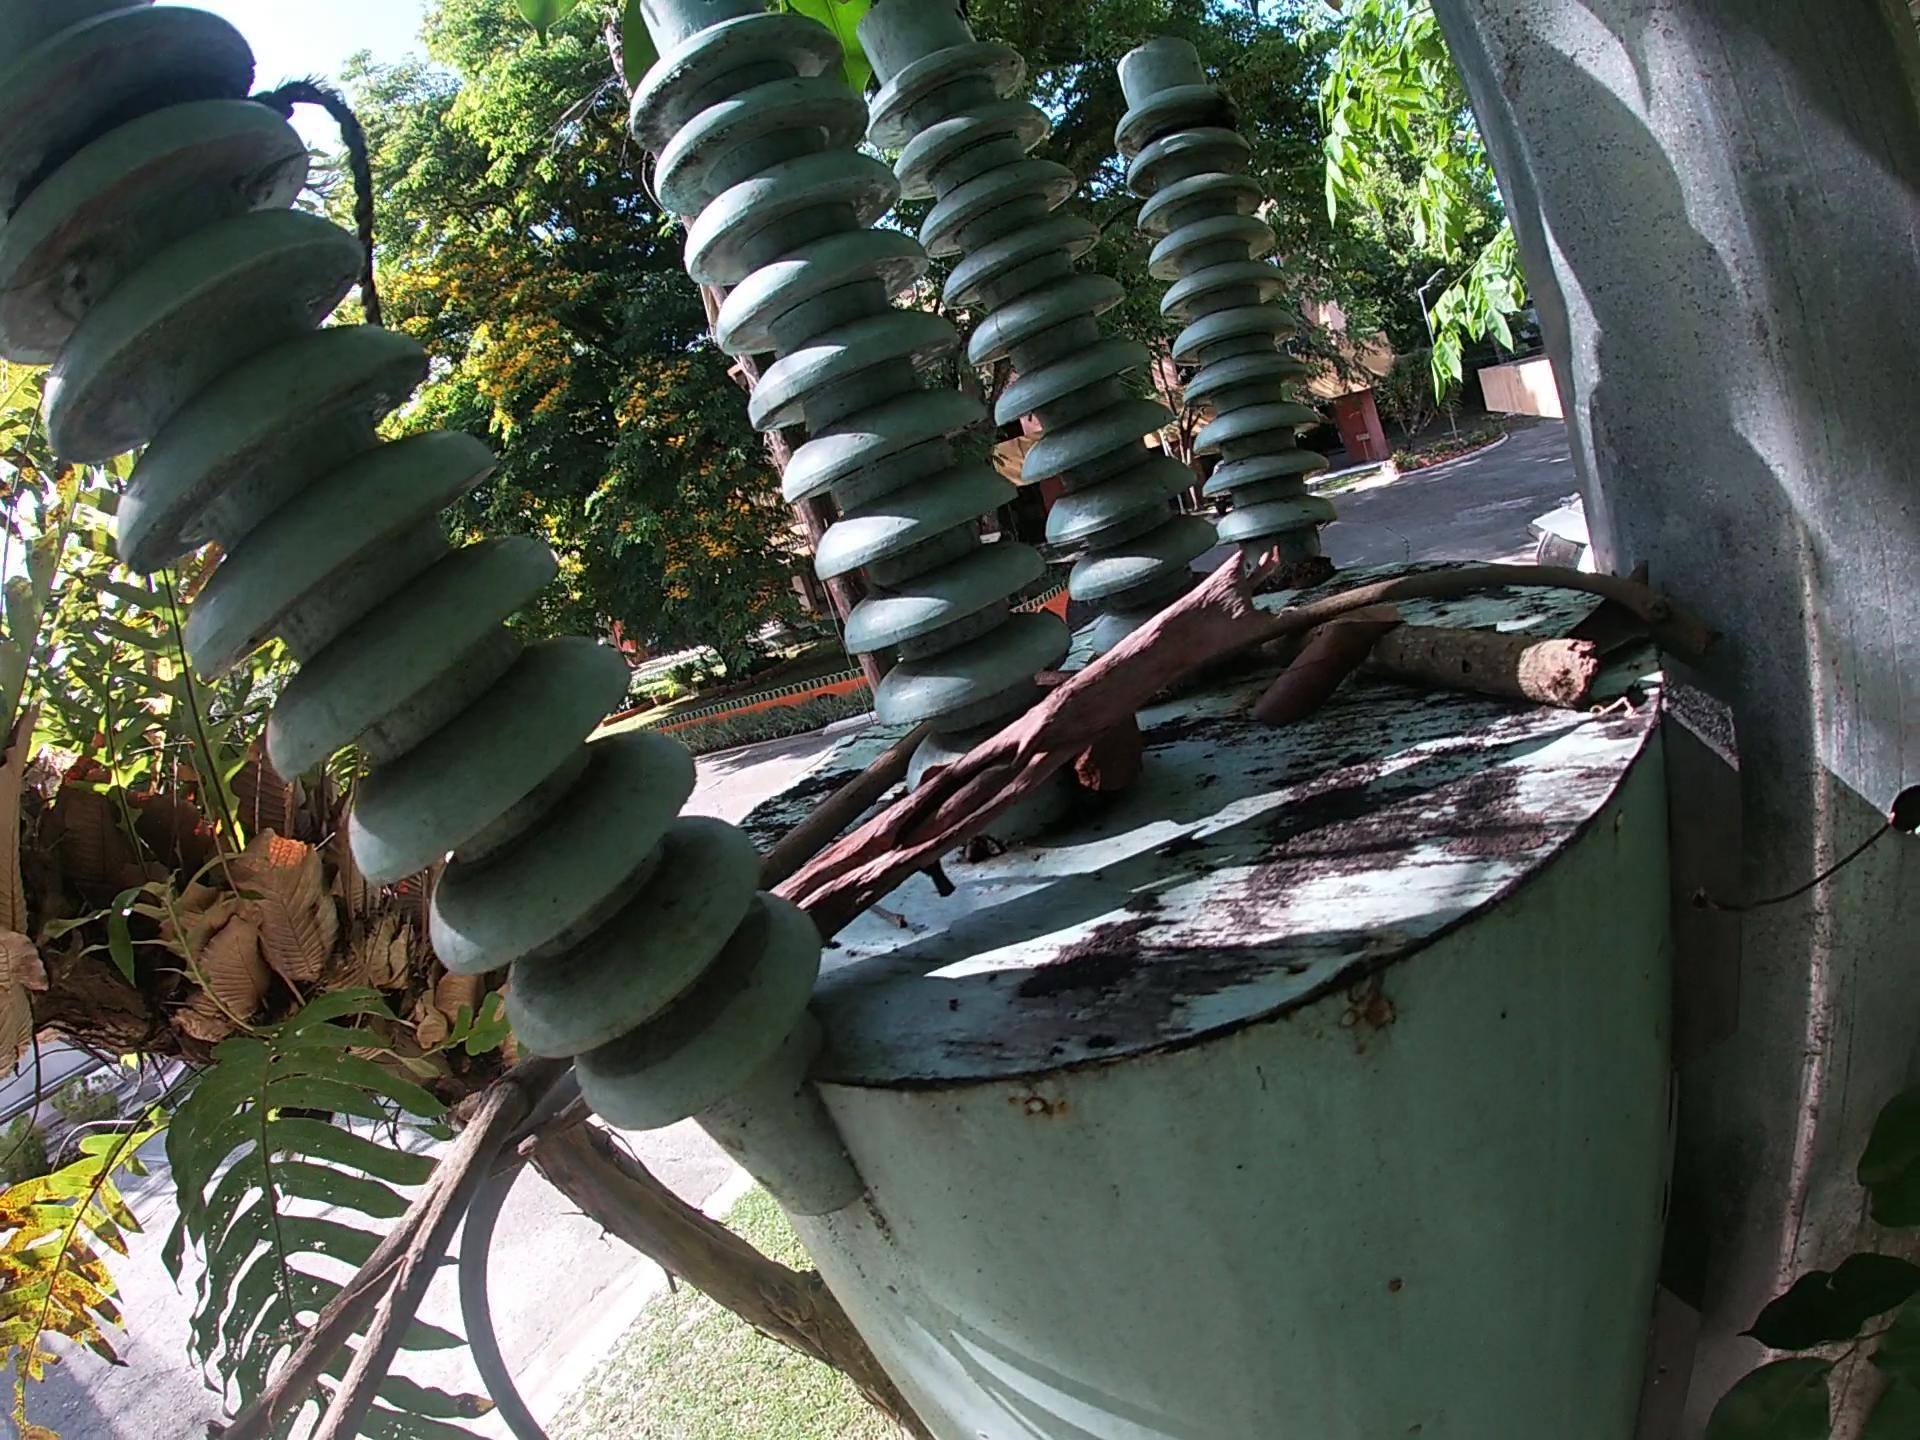leaf: (1235, 610, 1394, 734), (1575, 563, 1660, 659)
mahogany fruit: (1037, 656, 1154, 802)
tree branch: (762, 542, 1293, 944), (236, 1042, 573, 1440), (1252, 560, 1728, 672), (1253, 613, 1604, 712), (753, 715, 934, 898), (491, 1095, 593, 1172)
